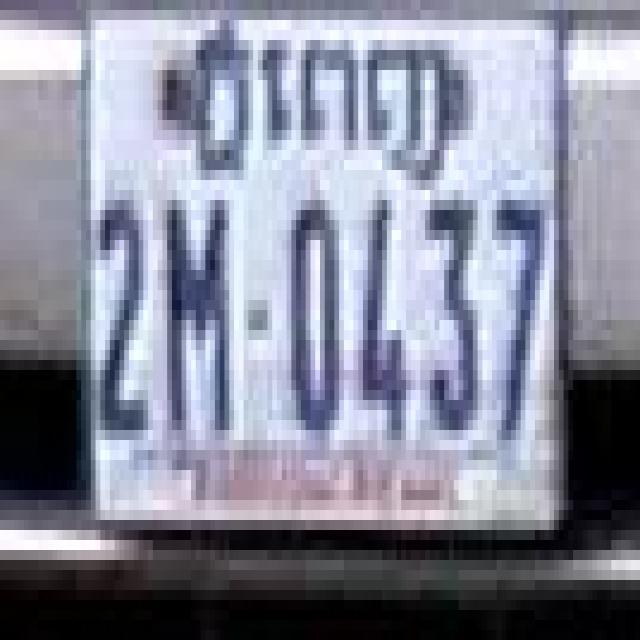Phnom_Penh: (191, 20, 442, 182)
